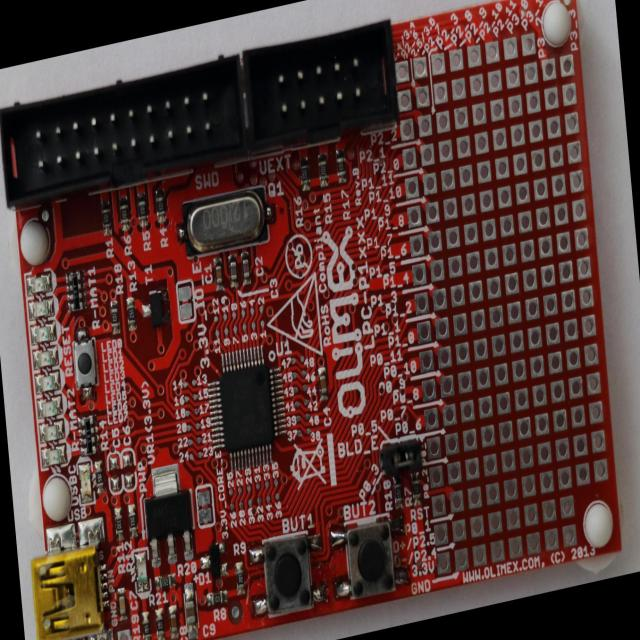Button: (247, 528, 326, 619), (330, 513, 409, 603), (69, 324, 101, 403)
Capacitor Jumper: (214, 256, 224, 291), (168, 604, 178, 639), (228, 254, 238, 288), (318, 366, 328, 400), (241, 251, 250, 284), (118, 588, 126, 620)
Clock: (175, 183, 276, 260)
Connector: (393, 22, 615, 576), (0, 54, 249, 212), (241, 17, 399, 156), (22, 502, 110, 639)
Diode: (198, 540, 228, 580)
Electrolytic Capacitor: (183, 582, 199, 640)
IC: (204, 342, 289, 475), (141, 460, 196, 568)
Jumper: (381, 435, 422, 475)
Led: (30, 342, 60, 372), (33, 367, 62, 397), (35, 392, 64, 422), (38, 415, 67, 445), (30, 318, 59, 347), (40, 440, 68, 470), (76, 462, 95, 505), (133, 547, 150, 595), (25, 269, 53, 298), (27, 294, 55, 323)
Pads: (174, 278, 197, 326), (194, 481, 216, 530), (119, 446, 138, 494), (105, 448, 123, 496)
Resistor: (94, 459, 105, 495), (119, 196, 130, 232), (126, 296, 137, 331), (137, 192, 148, 227), (393, 476, 404, 508), (206, 590, 228, 606), (101, 200, 111, 235), (235, 561, 245, 595), (156, 189, 166, 223), (300, 157, 310, 191), (110, 300, 120, 333), (411, 472, 421, 505), (336, 149, 346, 182), (318, 154, 328, 187), (114, 506, 123, 540), (128, 504, 137, 538), (141, 610, 151, 640), (155, 607, 164, 640), (159, 576, 171, 588)
Resistor Network: (65, 270, 88, 311), (78, 413, 99, 455)
Test Point: (116, 626, 133, 640), (197, 449, 204, 460), (190, 378, 197, 388), (194, 420, 201, 430), (249, 305, 255, 316), (231, 310, 237, 321), (187, 436, 193, 447), (274, 490, 280, 501), (258, 304, 264, 314), (214, 328, 220, 338), (241, 322, 247, 332), (250, 320, 256, 330), (192, 392, 198, 402), (184, 394, 190, 404), (292, 370, 298, 380), (296, 428, 302, 438), (264, 479, 270, 489), (247, 496, 253, 506), (185, 408, 190, 419), (240, 309, 246, 318), (213, 315, 219, 324), (193, 406, 199, 415), (186, 423, 192, 432), (294, 399, 300, 408), (238, 499, 244, 508), (222, 312, 227, 322), (232, 324, 237, 334), (299, 354, 304, 364), (189, 452, 194, 462), (265, 493, 270, 503), (182, 380, 188, 388), (290, 357, 296, 365), (300, 369, 306, 377), (302, 384, 308, 392), (303, 398, 309, 406), (196, 436, 202, 444), (304, 412, 310, 420), (306, 426, 312, 434), (228, 488, 234, 496), (246, 484, 252, 492), (255, 482, 261, 490), (256, 496, 262, 504), (229, 502, 235, 509), (224, 326, 228, 336), (260, 318, 264, 328), (293, 386, 298, 394), (237, 486, 242, 494), (274, 477, 278, 487), (296, 413, 300, 422)
Transistor: (140, 286, 172, 328)
